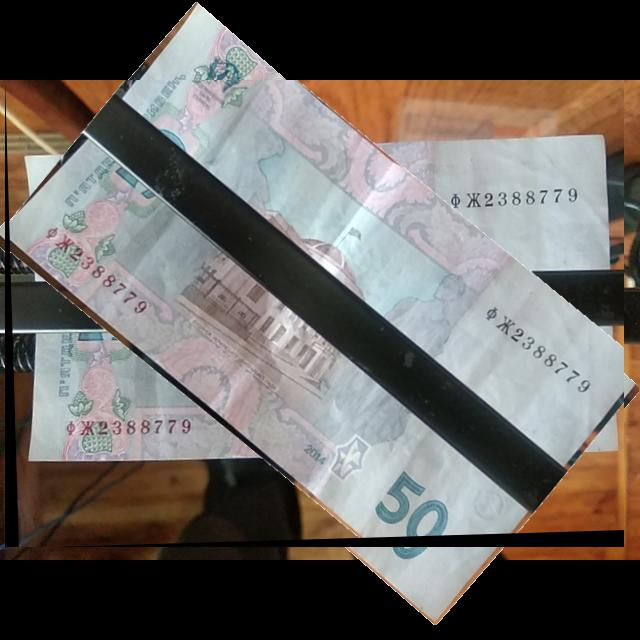50uah: (5, 80, 625, 548)
